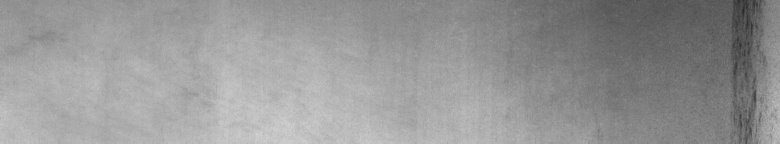ka: (724, 4, 776, 136)
